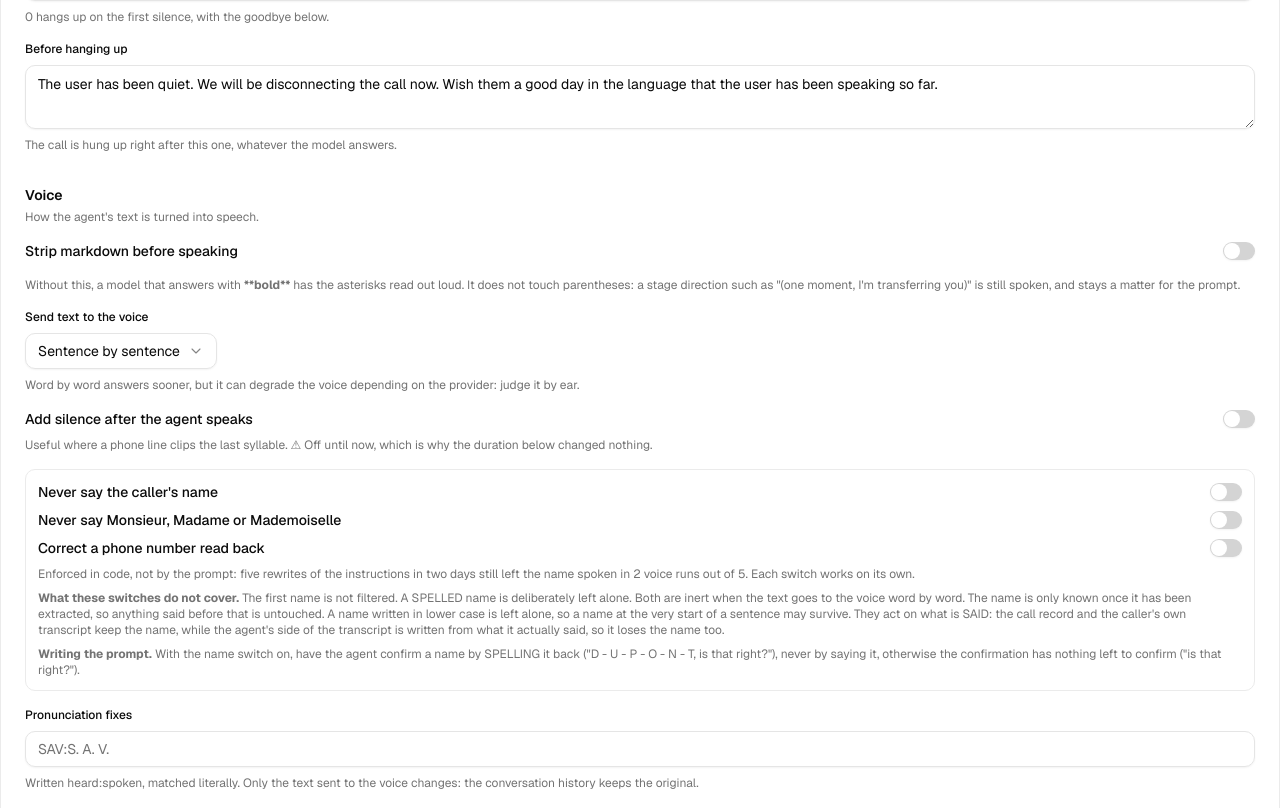
Test case: Section Reglages vocaux de la page de parametres › cache la duree du silence tant que le silence n'est pas allume
The width and height of the screenshot is (1280, 808).
(page scrolled)
What coordinates should you click on to do the following:
click the switch named "add silence after the agent speaks" in the row of "Add silence after the agent speaks"
I would click on:
 (1239, 419)
Its box is [1223,410,1255,428].
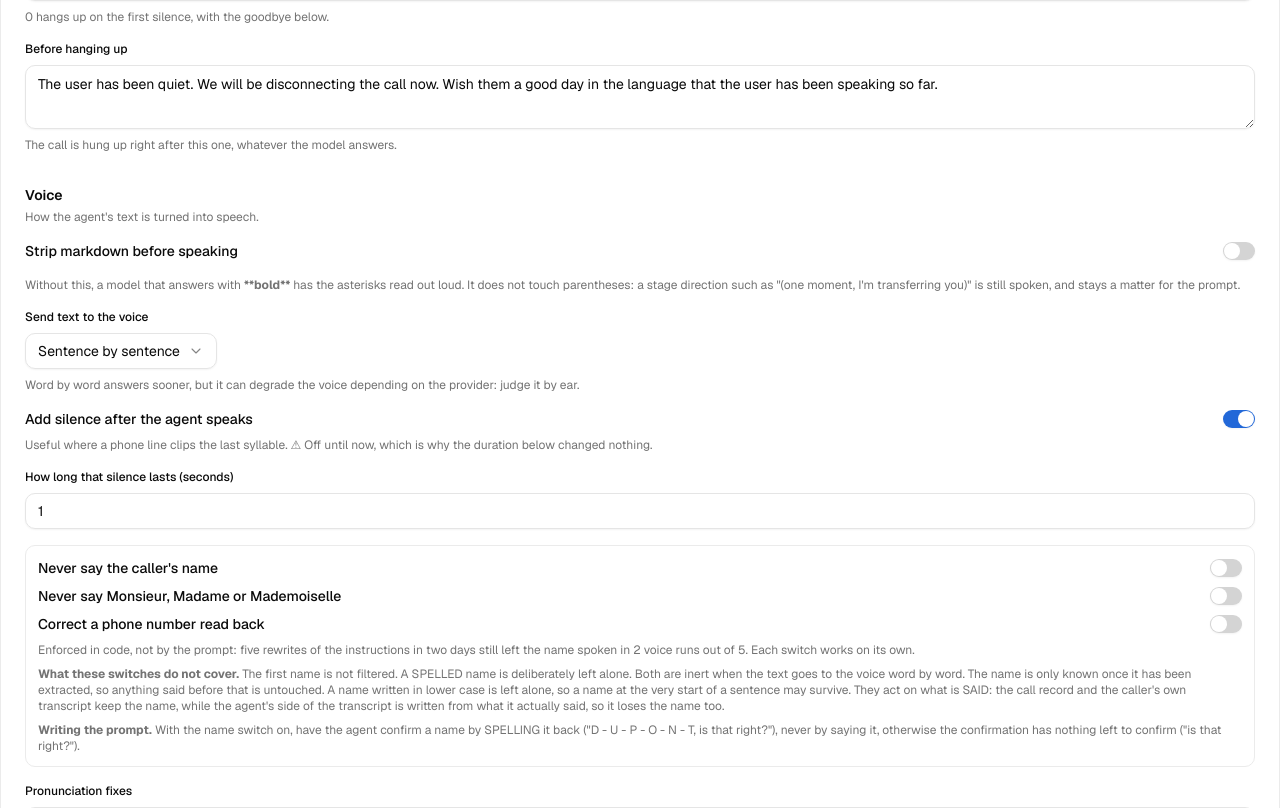
expect the number field with id "tts_silence_time_s" holds "1": met, box [25,493,1255,529]
